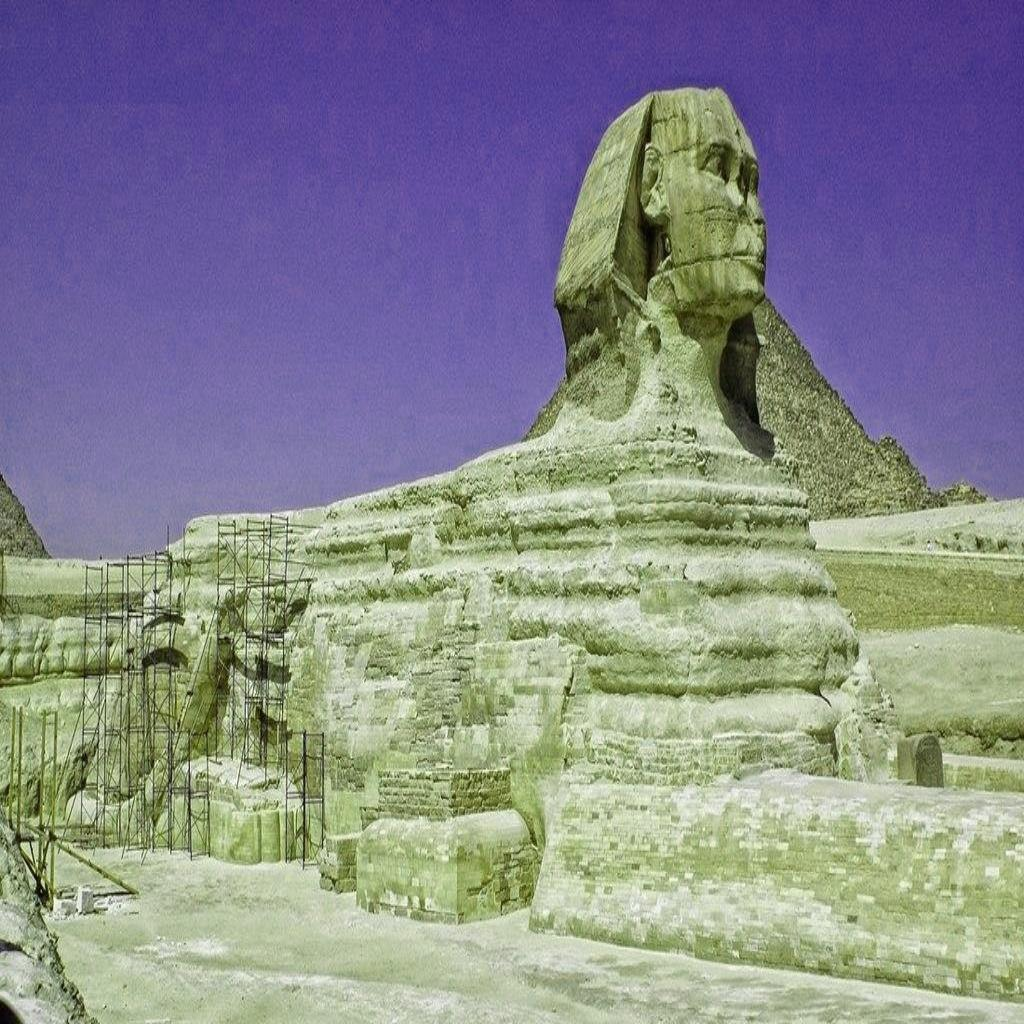Sphinx: (535, 82, 778, 456)
